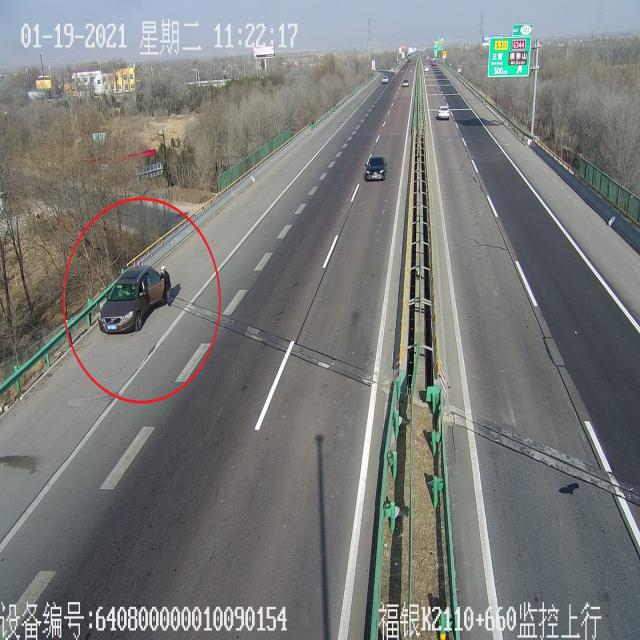point: (381, 20, 445, 92)
